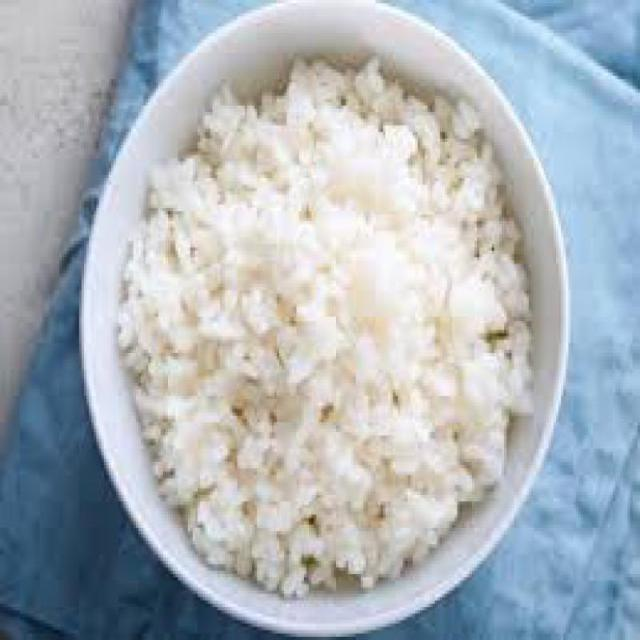nasi_putih: (117, 52, 536, 598)
